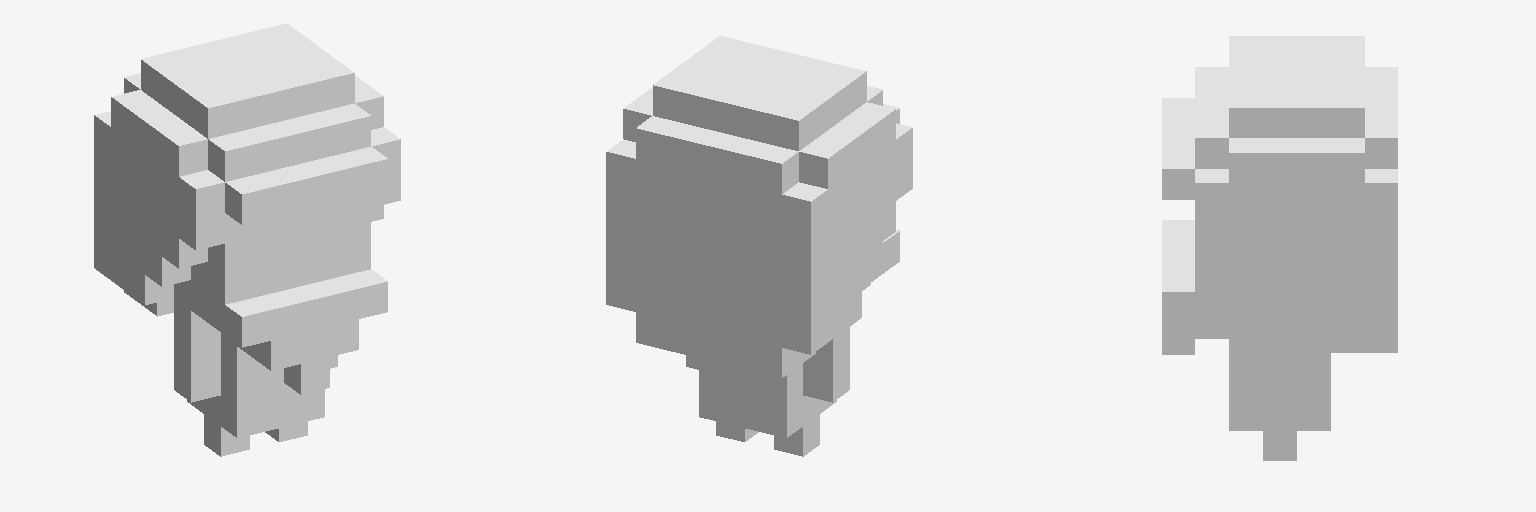
Rendered from Plantilla-v1-Characters-1.obj.
The picture shows the model from 3 angles: view 1: azimuth 30°, elevation 25°; view 2: azimuth 150°, elevation 25°; view 3: azimuth 270°, elevation 25°; orthographic projection.
Parts seen in each view (by area): view 1: object 1; view 2: object 1; view 3: object 1.
Part boxes in pixels (x1,y1,x2,y2): object 1: (94, 23, 400, 456); object 1: (606, 36, 912, 456); object 1: (1162, 36, 1397, 460).
Size of the model in its own units: 0.7 by 1.2 by 0.7.